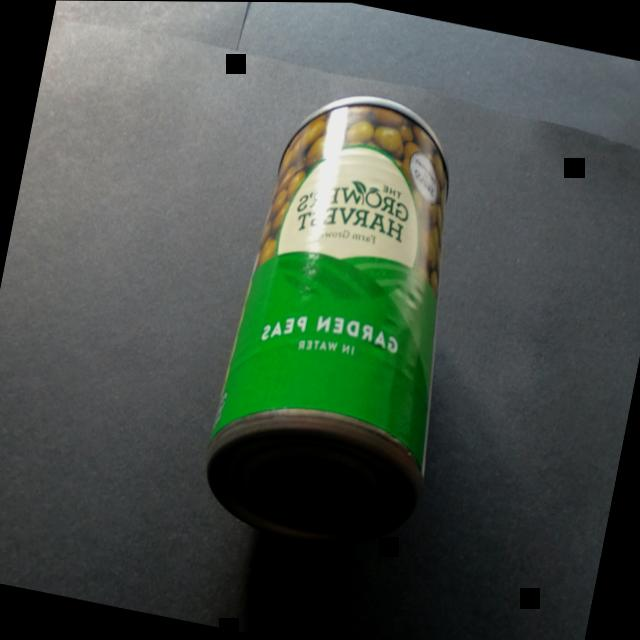Peas: (186, 68, 506, 572)
